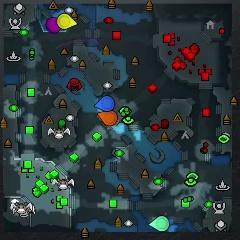p1: (96, 96, 115, 111)
p2: (150, 215, 170, 231)
p3: (46, 17, 61, 33)
p4: (58, 14, 78, 29)
p5: (97, 111, 117, 125)
